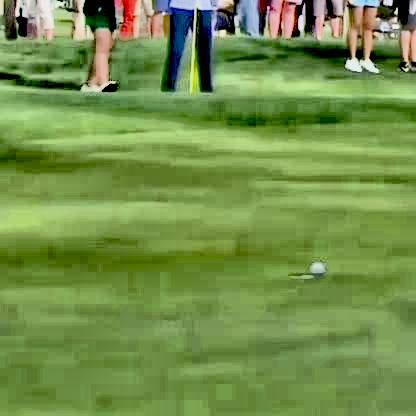golfball: (306, 259, 322, 275)
